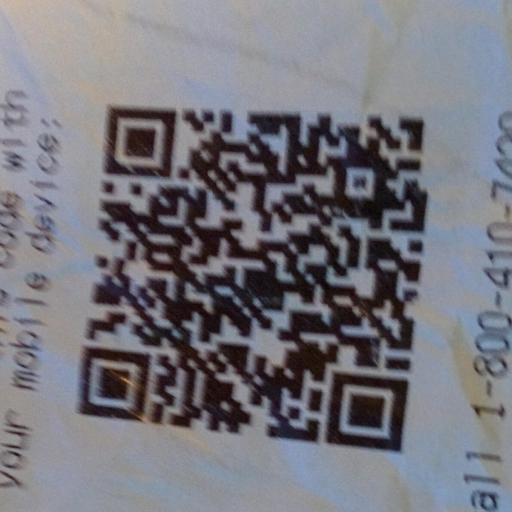QR_CODE: (66, 84, 431, 465)
